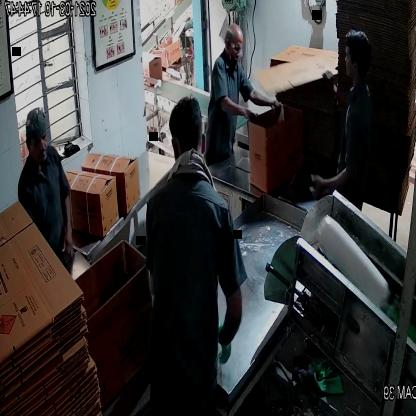no_glove: (307, 148, 362, 209), (57, 178, 82, 262), (221, 91, 264, 128)
